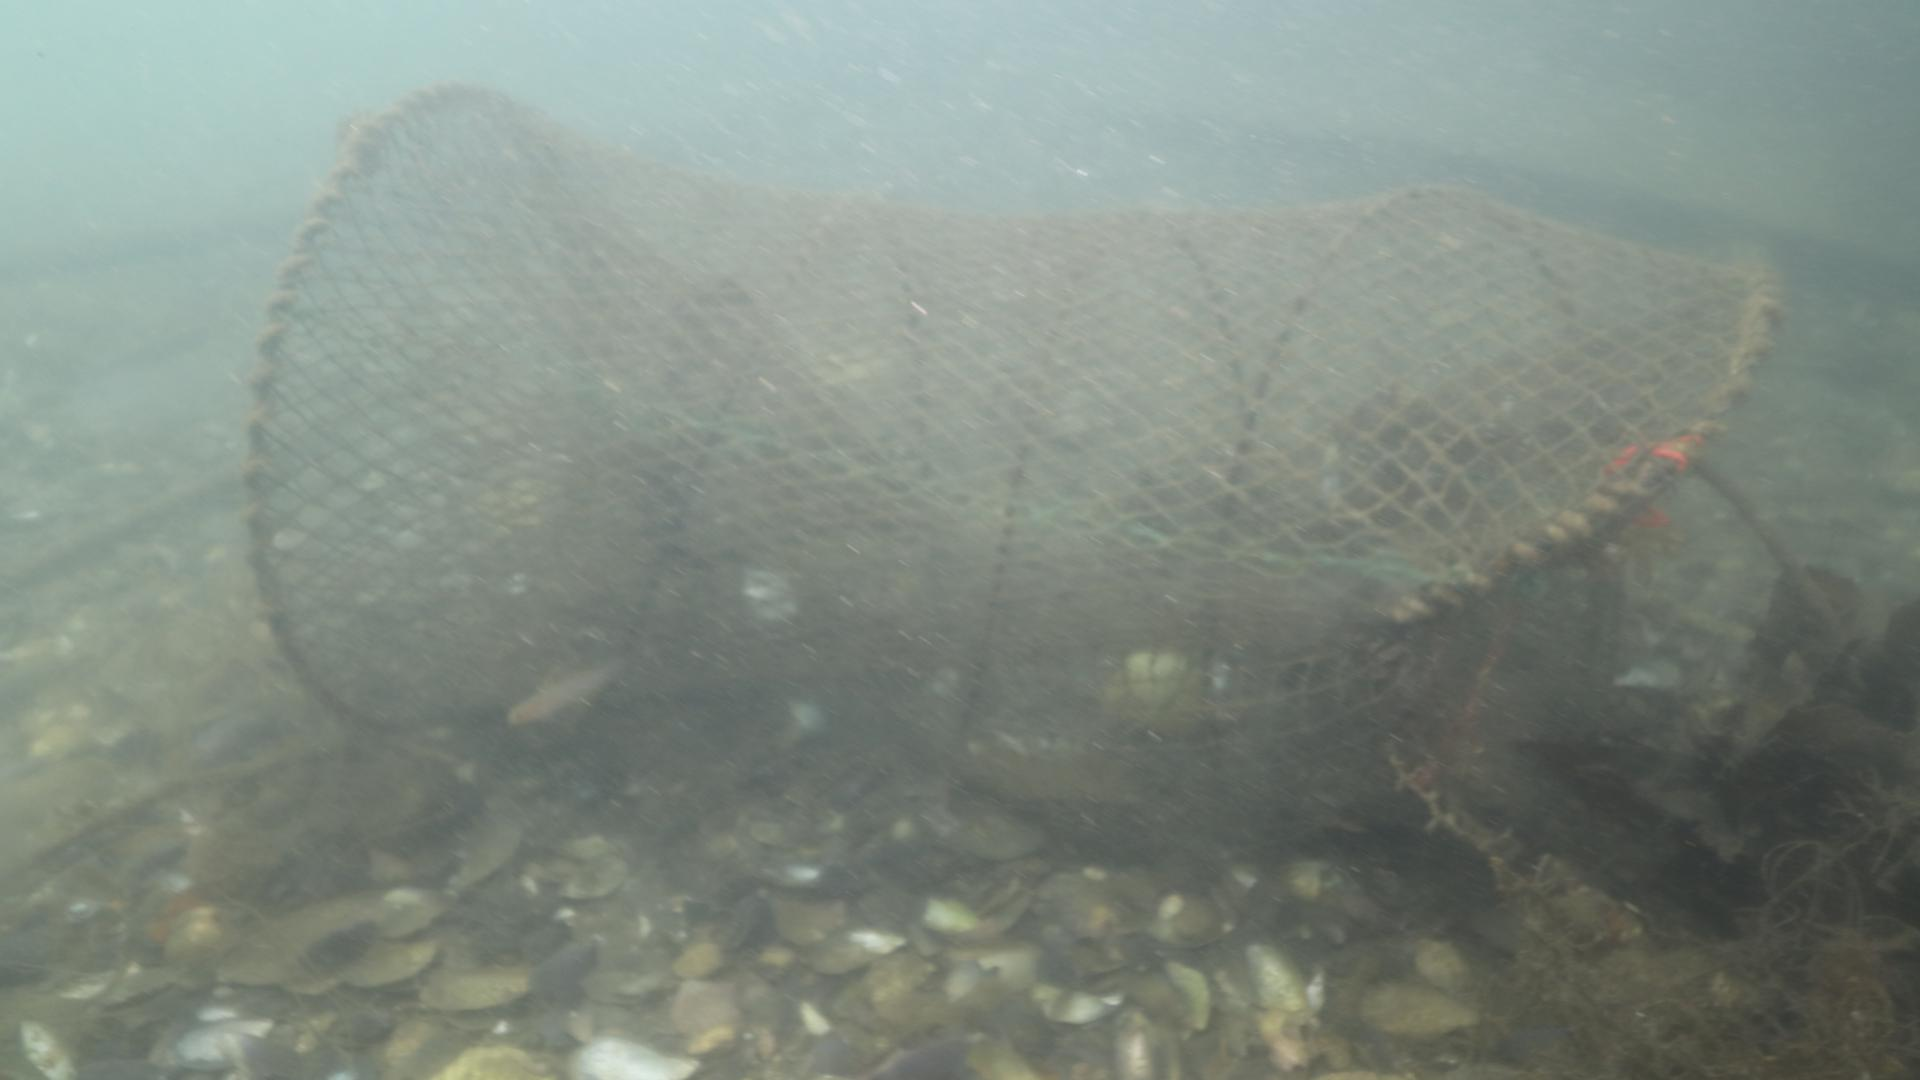spring fish trap: (245, 80, 1778, 848)
